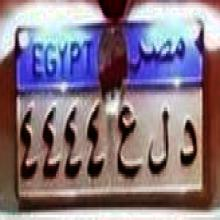4: (61, 100, 82, 186), (85, 98, 105, 188), (40, 101, 61, 185), (18, 105, 39, 183)
ain: (114, 103, 142, 188)
daal: (177, 113, 198, 174)
laam: (146, 100, 171, 181)
